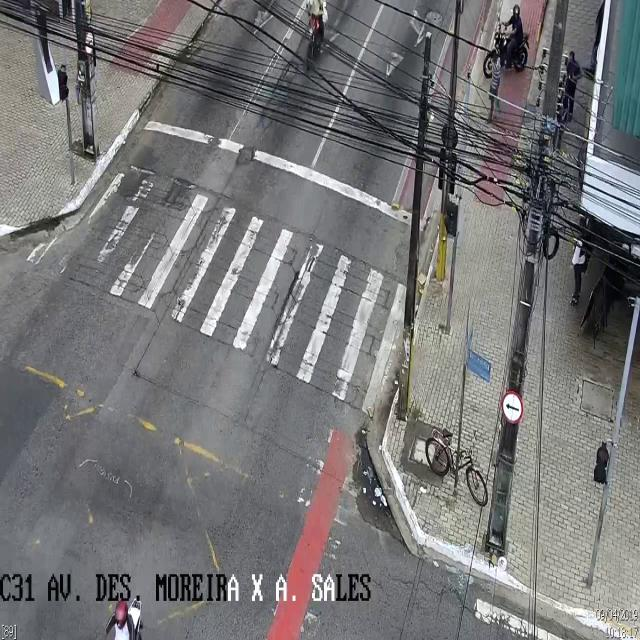Motorcycle: (482, 6, 530, 78), (305, 3, 329, 70)
